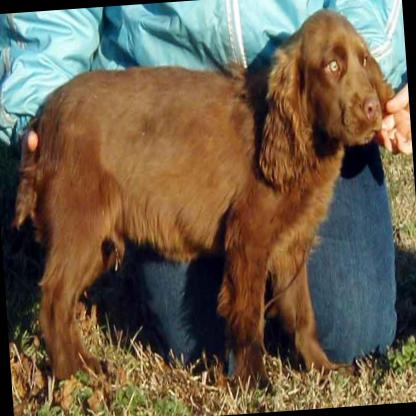Sussex_spaniel: (0, 2, 414, 413)
